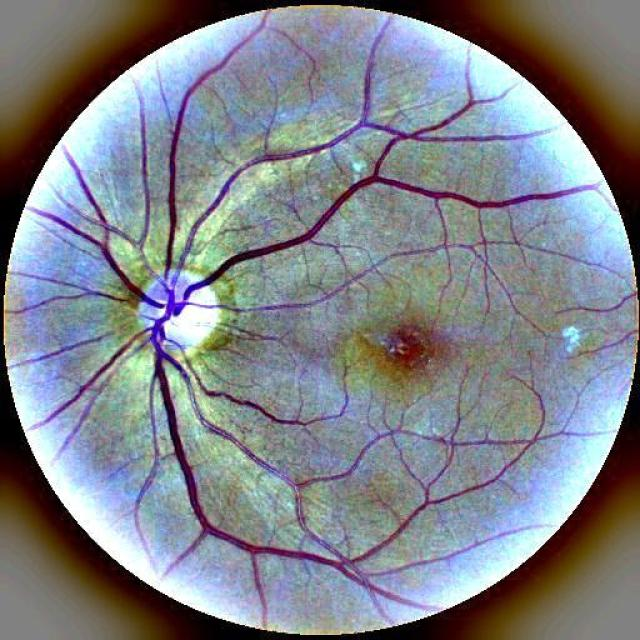Macula: (345, 307, 464, 405)
Nerves: (44, 24, 337, 599)
Optic Disk: (126, 247, 237, 368)
